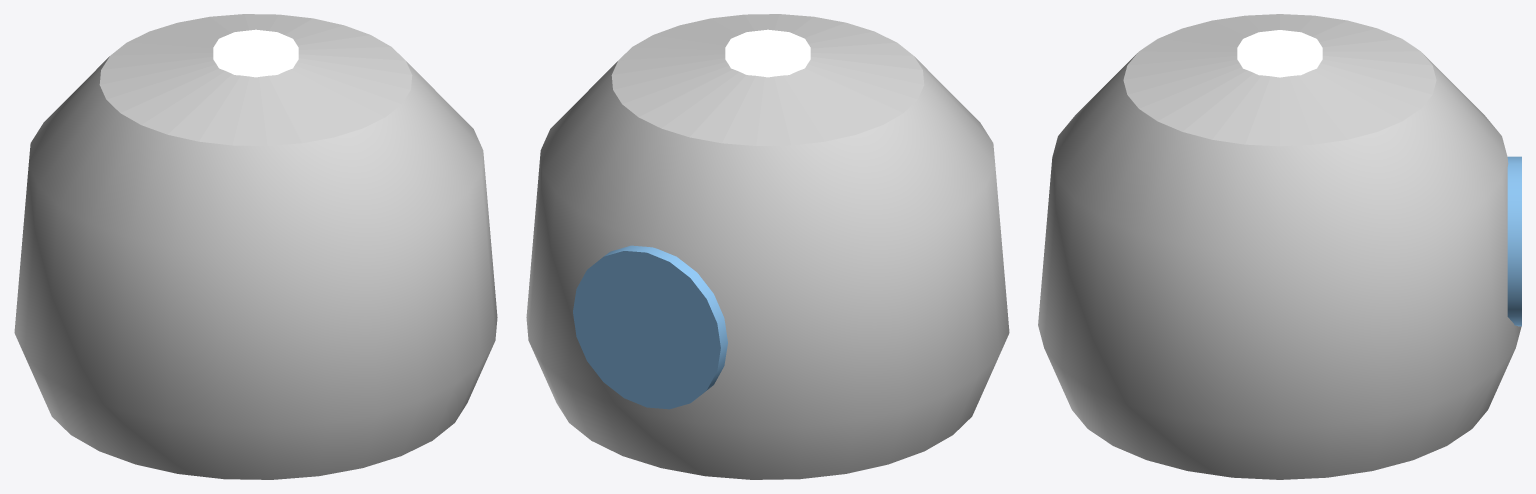
The model's file is white_noise.fbx.
The picture shows the model from 3 angles, left to right: view 1: azimuth 30°, elevation 25°; view 2: azimuth 150°, elevation 25°; view 3: azimuth 270°, elevation 25°; orthographic projection.
Parts seen in each view (by area): view 1: White Noise Machine; view 2: White Noise Machine; view 3: White Noise Machine.
Part boxes in pixels (left/top/right/bottom): White Noise Machine: left=14, top=14, right=497, bottom=479; White Noise Machine: left=526, top=14, right=1009, bottom=479; White Noise Machine: left=1038, top=14, right=1521, bottom=479.
Size of the model in its own units: 0.68 by 0.53 by 0.68.
